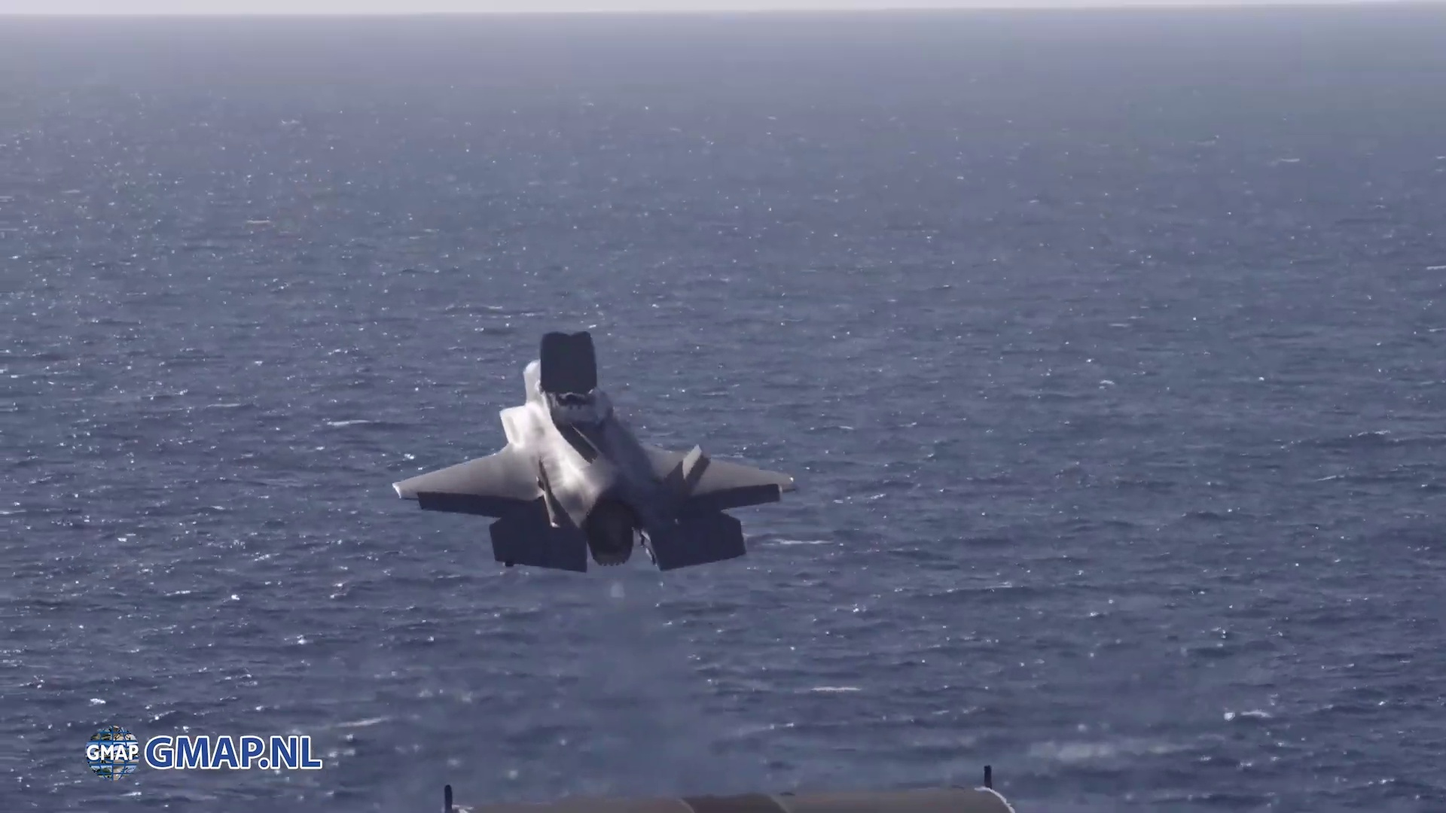F35: (392, 328, 799, 575)
